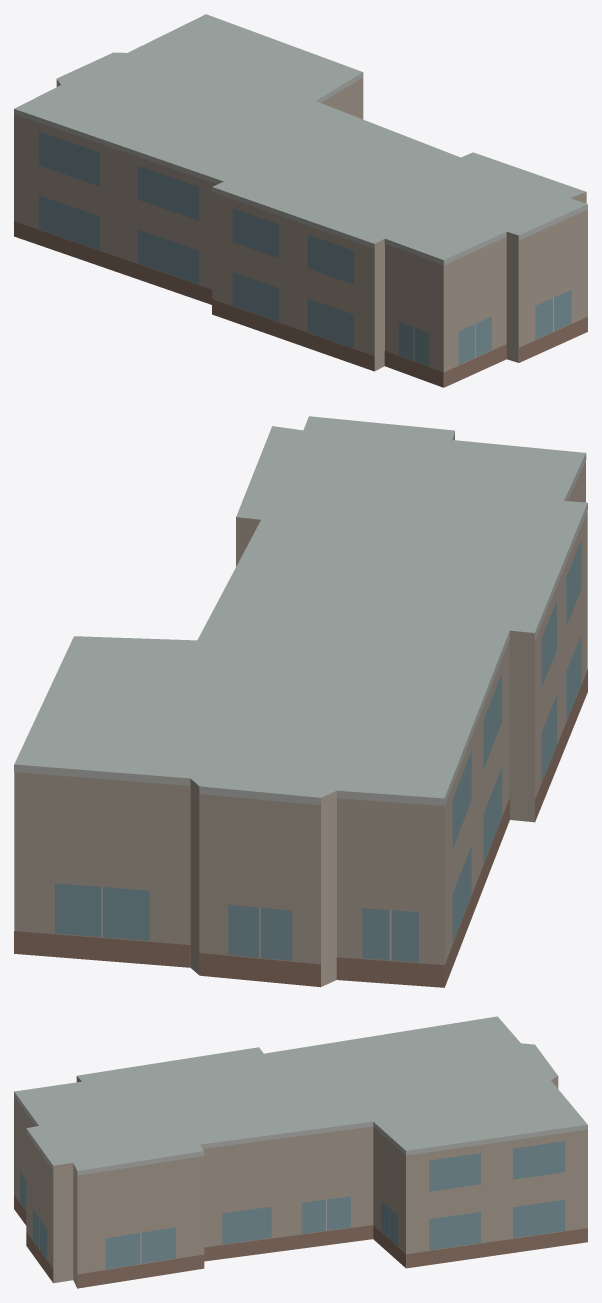
Rendered from survey-upis-32674275.glb.
The picture shows the model from 3 angles, top to bottom: view 1: azimuth 30°, elevation 25°; view 2: azimuth 150°, elevation 25°; view 3: azimuth 270°, elevation 25°; orthographic projection. The views are drawn at different scales.
Parts seen in each view (by area): view 1: survey-upis-32674275.tmp; view 2: survey-upis-32674275.tmp; view 3: survey-upis-32674275.tmp.
Part boxes in pixels (x1,y1,x2,y2): survey-upis-32674275.tmp: (14,14,587,387); survey-upis-32674275.tmp: (14,416,587,987); survey-upis-32674275.tmp: (14,1016,587,1288).
Size of the model in its own units: 17.24 by 6.1 by 27.01.
